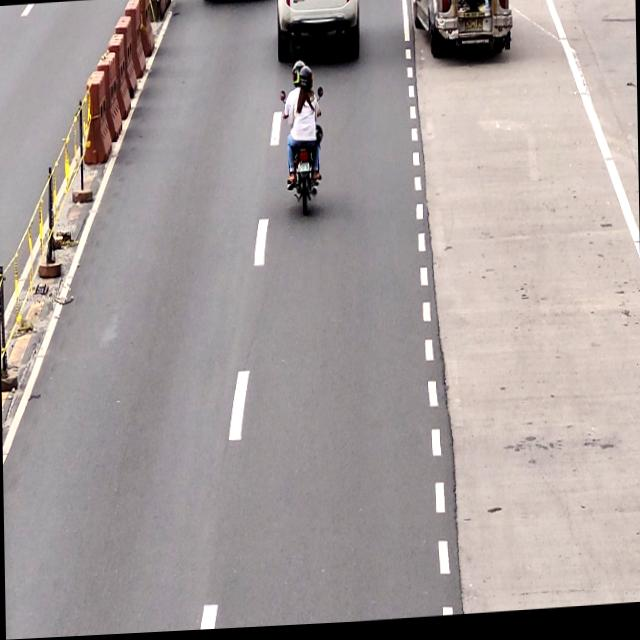Car: (273, 0, 360, 69)
Jeep: (408, 0, 511, 56)
License-Plate: (464, 22, 484, 37), (296, 163, 310, 176)
Motorcycle: (284, 61, 322, 217)
